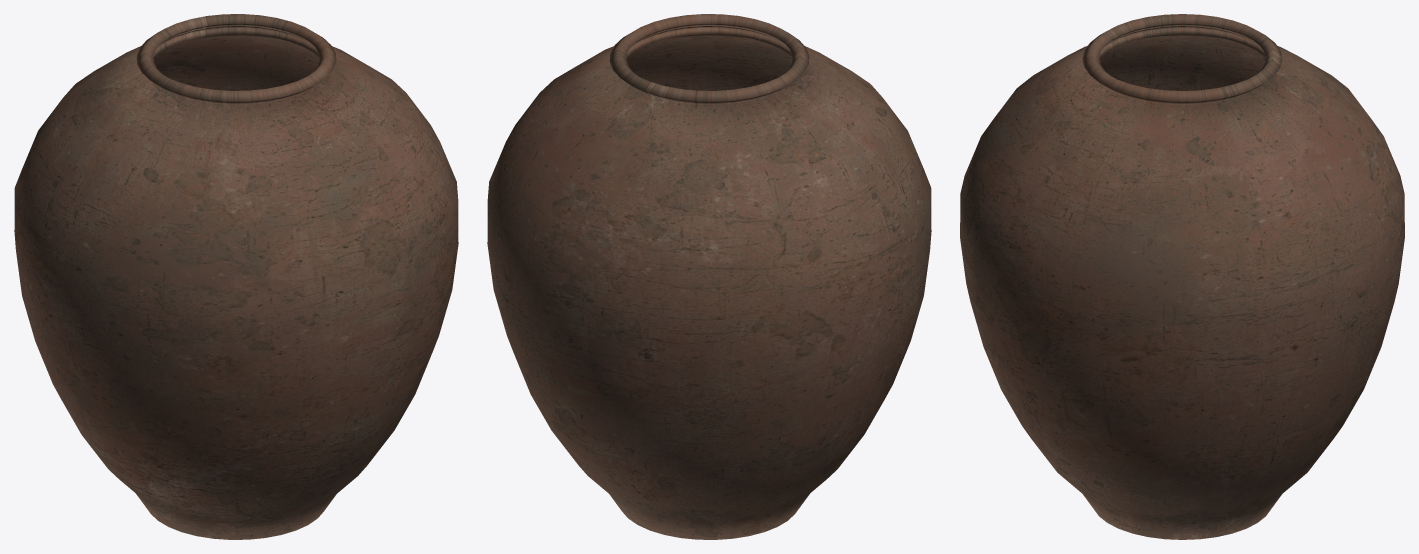
File: pot_large.gltf
The picture shows the model from 3 angles, left to right: view 1: azimuth 30°, elevation 25°; view 2: azimuth 150°, elevation 25°; view 3: azimuth 270°, elevation 25°; orthographic projection.
Parts seen in each view (by area): view 1: Sphere; view 2: Sphere; view 3: Sphere.
Part boxes in pixels (x1,y1,x2,y2): Sphere: [14, 14, 458, 539]; Sphere: [487, 14, 931, 539]; Sphere: [960, 14, 1404, 539].
Size of the model in its own units: 0.7009 by 0.7812 by 0.7009.
1 material, 1 textured.
